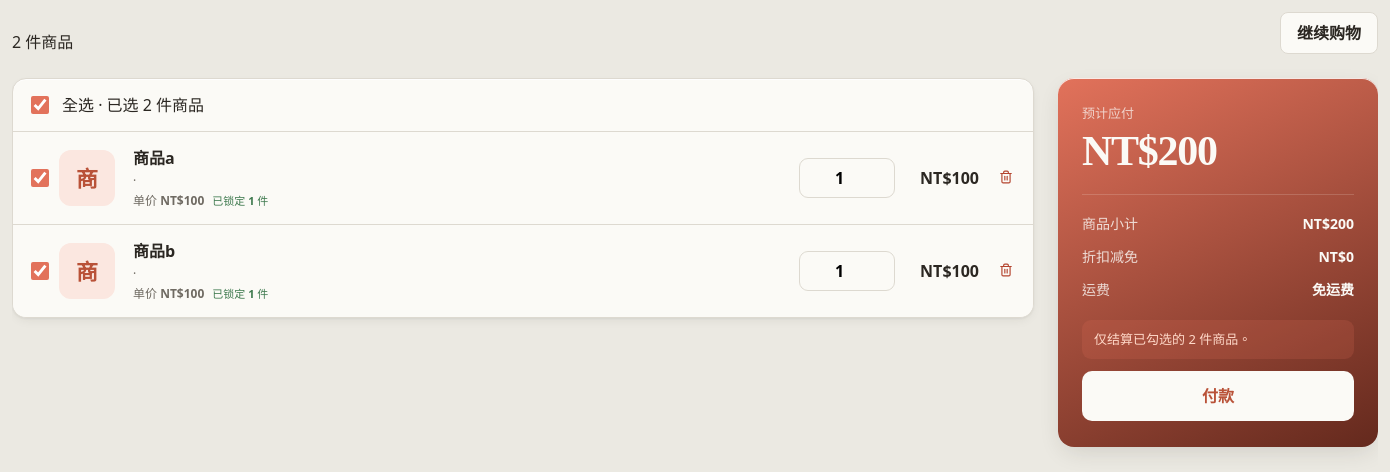
Test case: 购物车勾选交互 › 变更勾选后新报价未返回时，不能使用旧金额结算
This screenshot has width=1390, height=472.
Later steps or results of the test are not shown.
expect the button "付款" is enabled: met, box [1082,371,1354,421]
Click the checkbox named "选择 商品b".
click(40, 271)  # box [31,262,49,280]
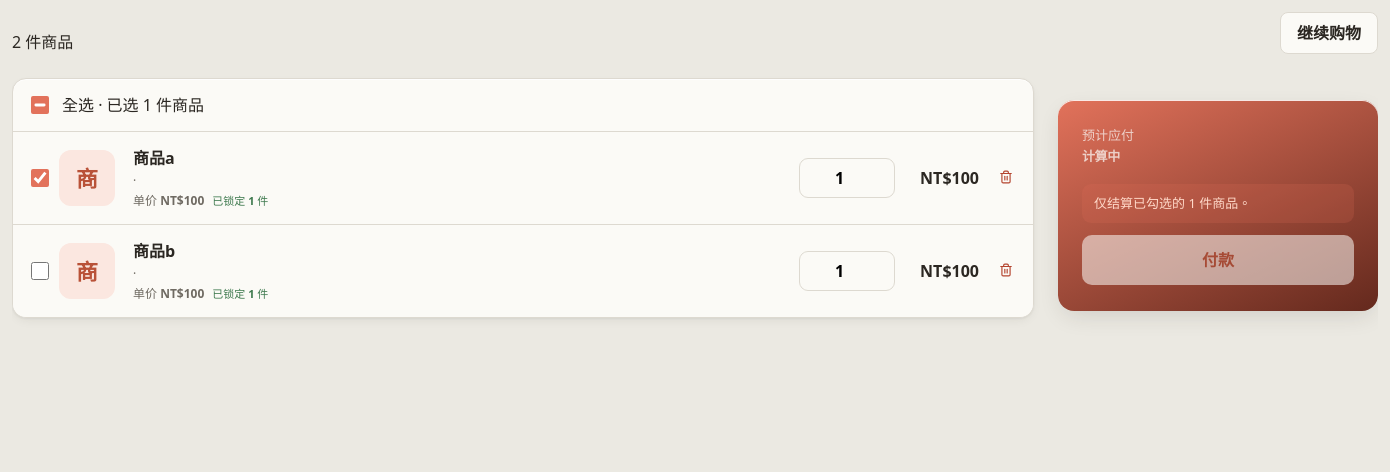
expect the button "付款" is disabled: met, box [1082,235,1354,285]
expect the text "NT$200" is gone: met
